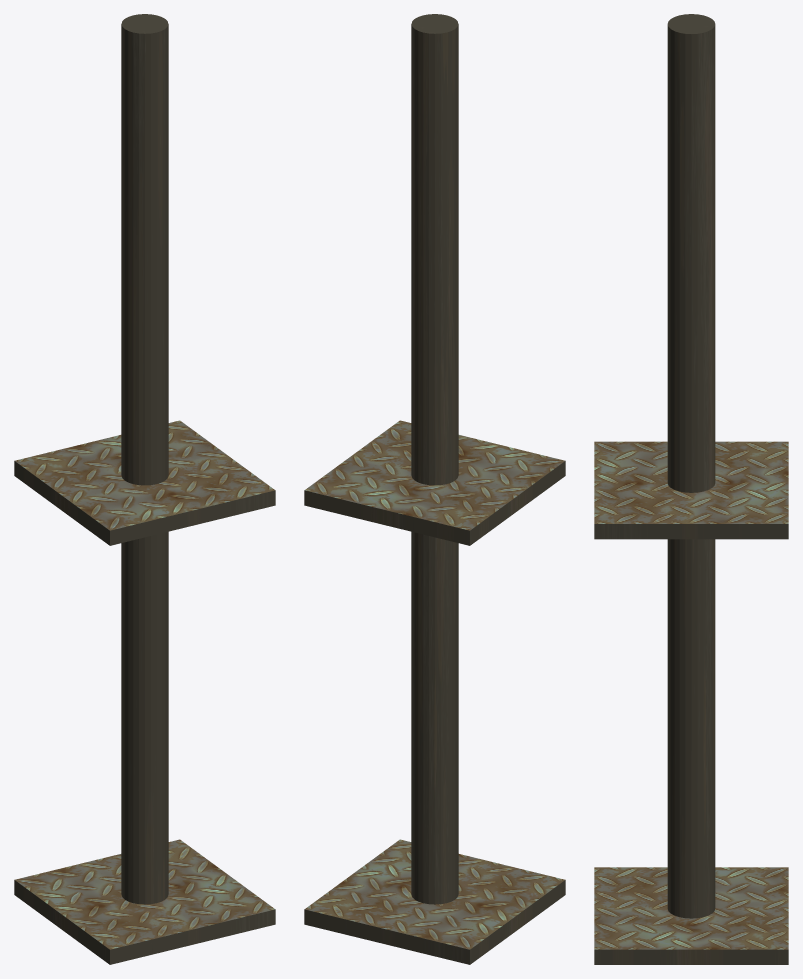
The model's file is SIDEREAKING TOOL.fbx.
The picture shows the model from 3 angles, left to right: view 1: azimuth 30°, elevation 25°; view 2: azimuth 150°, elevation 25°; view 3: azimuth 270°, elevation 25°; orthographic projection.
Parts seen in each view (by area): view 1: SIDEREAKING TOOL; view 2: SIDEREAKING TOOL; view 3: SIDEREAKING TOOL.
Part boxes in pixels (box(x1,y1,x2,y2)): SIDEREAKING TOOL: box(14, 14, 275, 964); SIDEREAKING TOOL: box(304, 14, 565, 964); SIDEREAKING TOOL: box(594, 14, 788, 964).
Bounding box in the file's own units: 16.76 × 85.72 × 16.76.
2 materials, 2 textured.
